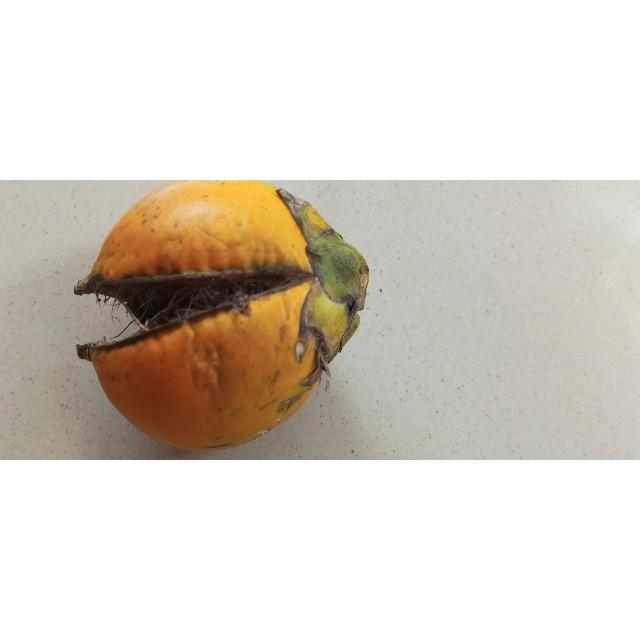damaged: (76, 180, 370, 452)
